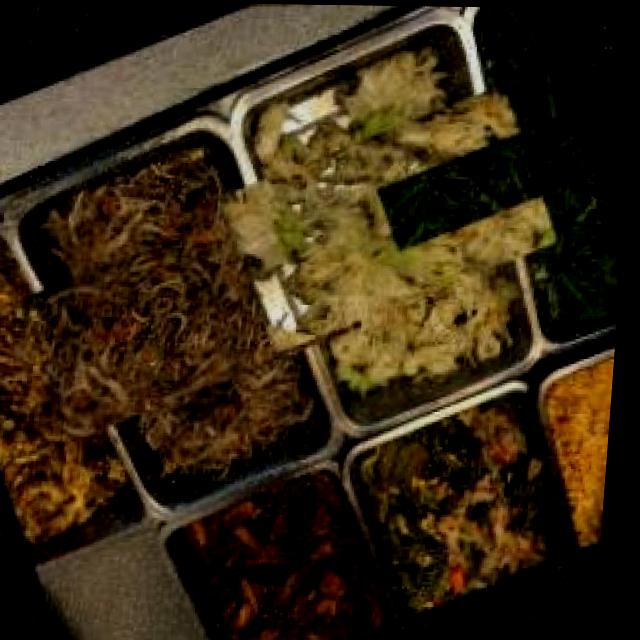chinese_cabbage: (228, 61, 560, 378)
mung_bean_sprouts: (36, 156, 359, 464)
water_spinach: (409, 48, 627, 290)
